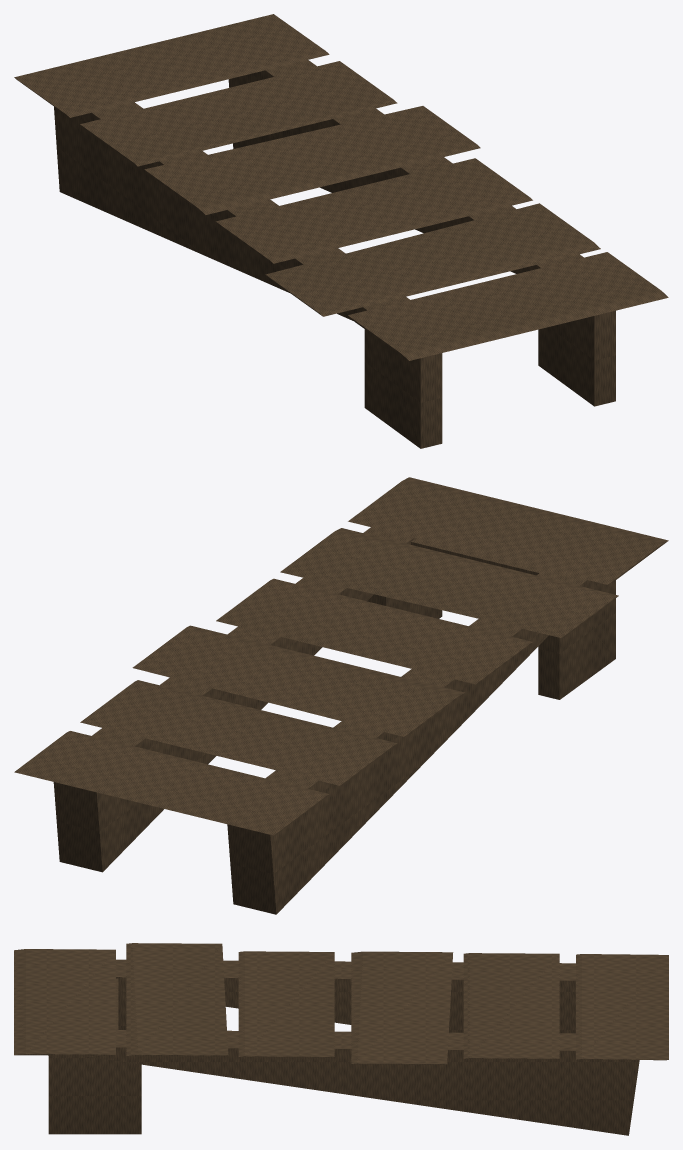
File: wooden-dock.glb
3 renders of one model, top to bottom at view 1: azimuth 30°, elevation 25°; view 2: azimuth 150°, elevation 25°; view 3: azimuth 270°, elevation 25°, orthographic. The views are drawn at different scales.
Parts seen in each view (by area): view 1: ramp; view 2: ramp; view 3: ramp.
Boxes of the visible parts, x1,y1,x2,y2 form: ramp: [14, 14, 668, 448]; ramp: [14, 477, 668, 914]; ramp: [14, 943, 668, 1135].
Size of the model in its own units: 3 by 1.1 by 7.
Materials: 1 (1 with a texture image).
